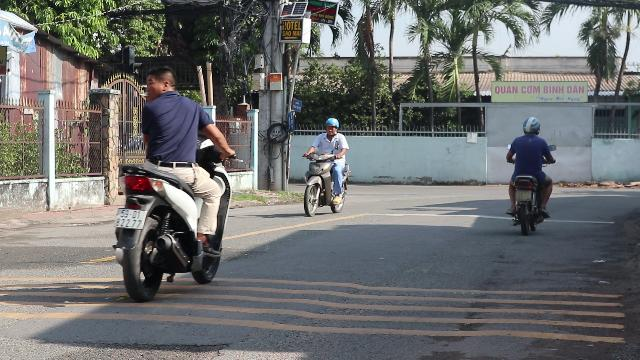helmet: (521, 117, 541, 135), (324, 116, 340, 136)
licenseplate: (115, 208, 147, 229), (516, 190, 532, 200)
motorcyclist: (109, 65, 234, 301), (503, 115, 555, 232), (300, 116, 352, 218)
nohelmet: (143, 67, 179, 101)
